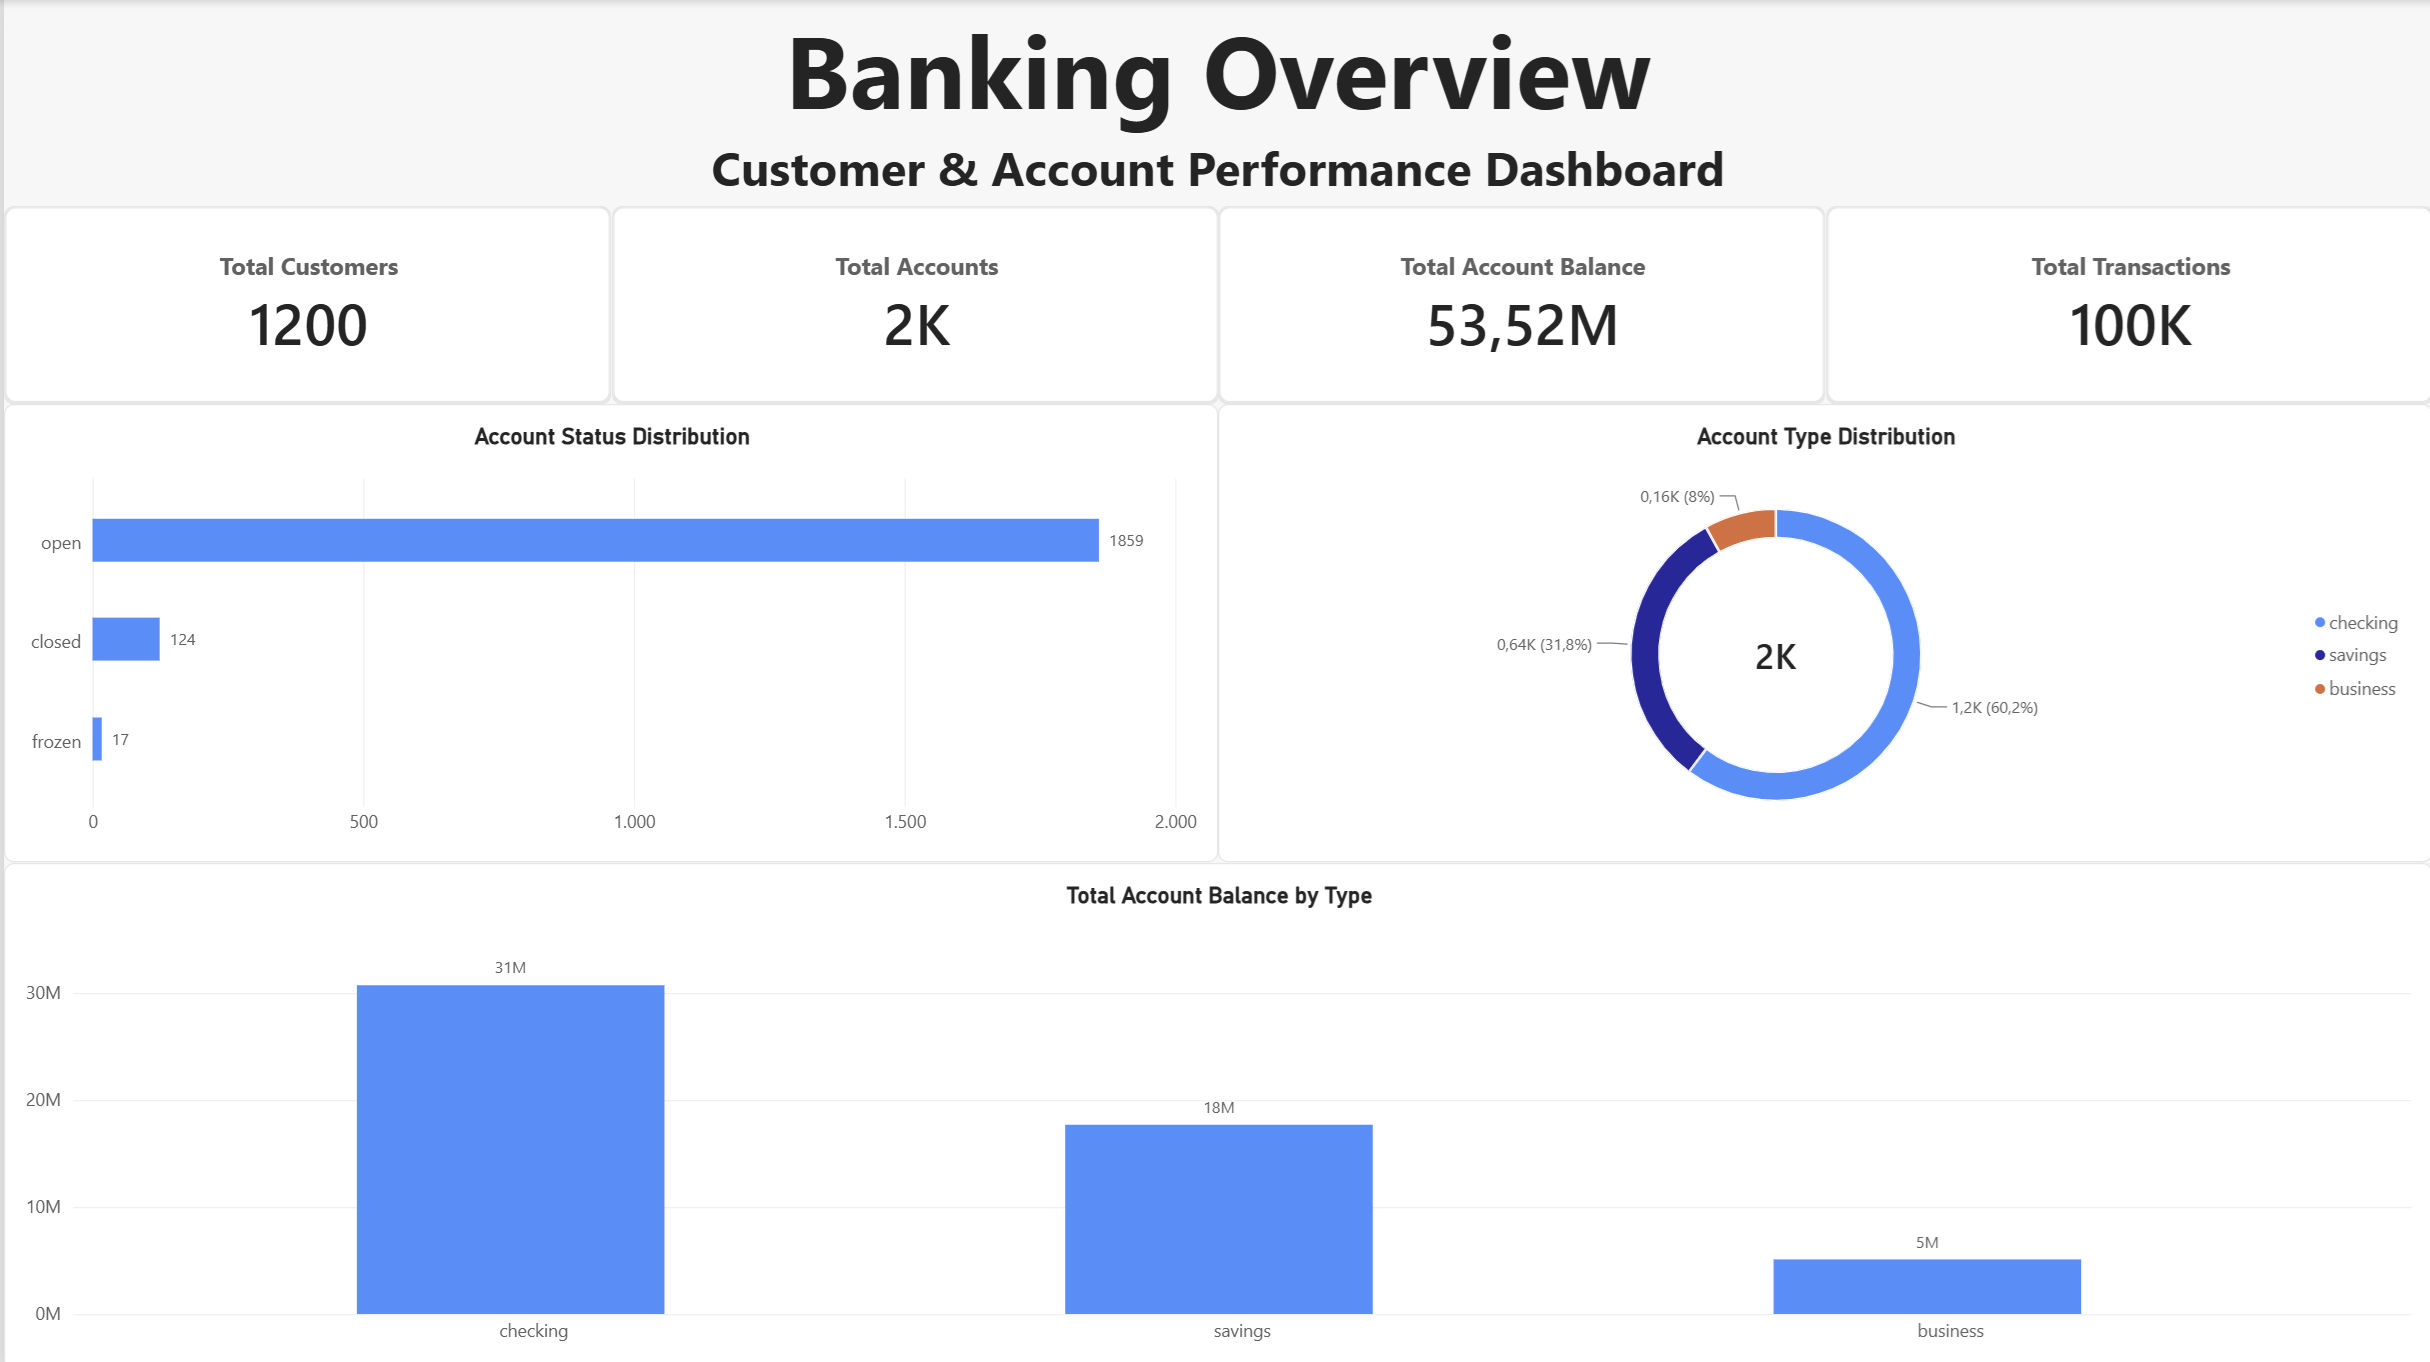

The page's visual inventory and layout, read from the dashboard file:
{"tool":"powerbi","page":{"name":"Banking Overview","canvas":[1920,1080],"ordinal":0},"visuals":[{"type":"cardVisual","fields":{"Data":["public customers.Total Customers"]},"box":[0,162.5,480,156.8],"z":0},{"type":"cardVisual","fields":{"Data":["public accounts.Total Accounts"]},"box":[480,162.5,480,156.8],"z":1000},{"type":"cardVisual","fields":{"Data":["public accounts.Total Account Balance"]},"box":[960,162.5,480,156.8],"z":2000},{"type":"cardVisual","fields":{"Data":["public transactions.Total Transactions"]},"box":[1440,162.5,480,156.8],"z":3000},{"type":"donutChart","title":"Account Type Distribution","fields":{"Category":["public accounts.type"],"Y":["CountNonNull(public accounts.id)"]},"box":[960,319.4,960,361.4],"z":4000},{"type":"clusteredColumnChart","title":"Total Account Balance by Type","fields":{"Category":["public accounts.type"],"Y":["Sum(public accounts.balance)"]},"box":[0,680.8,1920,401.6],"z":5000},{"type":"clusteredBarChart","title":"Account Status Distribution","fields":{"Category":["public accounts.status"],"Y":["CountNonNull(public accounts.id)"]},"box":[0,319.4,959.8,362.1],"z":6000},{"type":"textbox","box":[0,0,1920,162.5],"z":7000}]}

Visuals, with their boxes in screenshot pixels (x1, y1, x2, y2), scaled from the page's 1920x1080 canvas onto the 2430x1362 screenshot:
cardVisual - public customers.Total Customers: crop(0, 205, 608, 403)
cardVisual - public accounts.Total Accounts: crop(608, 205, 1215, 403)
cardVisual - public accounts.Total Account Balance: crop(1215, 205, 1822, 403)
cardVisual - public transactions.Total Transactions: crop(1822, 205, 2429, 403)
"Account Type Distribution" donutChart: crop(1215, 403, 2429, 859)
"Total Account Balance by Type" clusteredColumnChart: crop(0, 859, 2429, 1361)
"Account Status Distribution" clusteredBarChart: crop(0, 403, 1215, 859)
textbox: crop(0, 0, 2429, 205)
